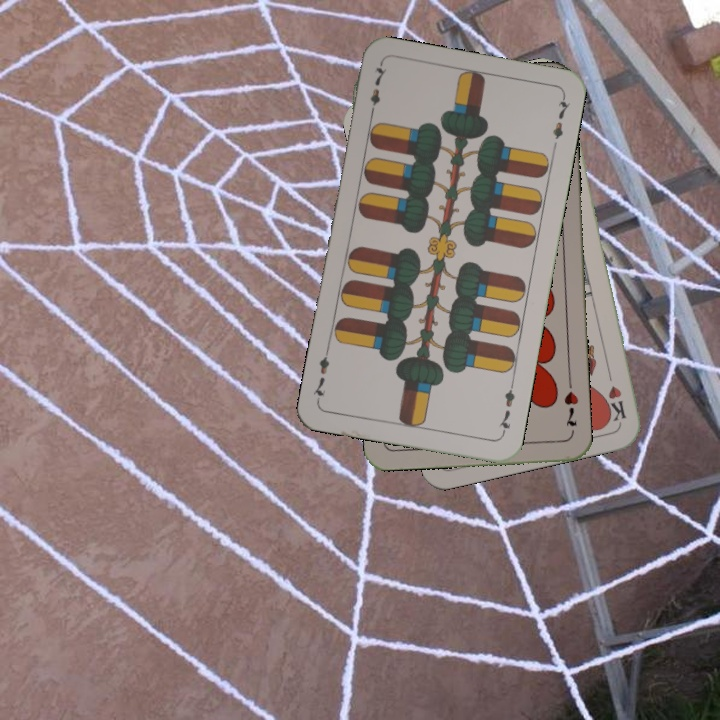E7: (366, 60, 390, 119), (495, 379, 518, 438)
H7: (560, 388, 581, 429)
HK: (603, 365, 629, 424)
